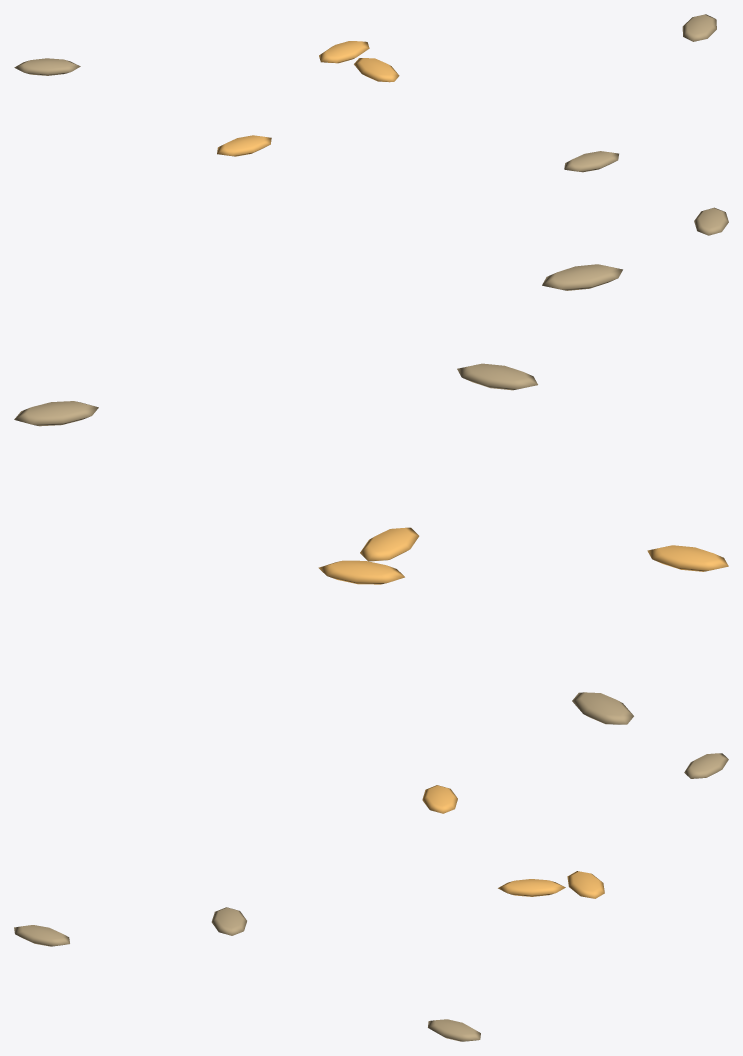
Rendered from layer_autumn_sparse.glb.
3 renders of one model, top to bottom at view 1: azimuth 30°, elevation 25°; view 2: azimuth 150°, elevation 25°; view 3: azimuth 270°, elevation 25°, orthographic. The views are drawn at different scales.
Size of the model in its own units: 2.09 by 0.035 by 2.19.
